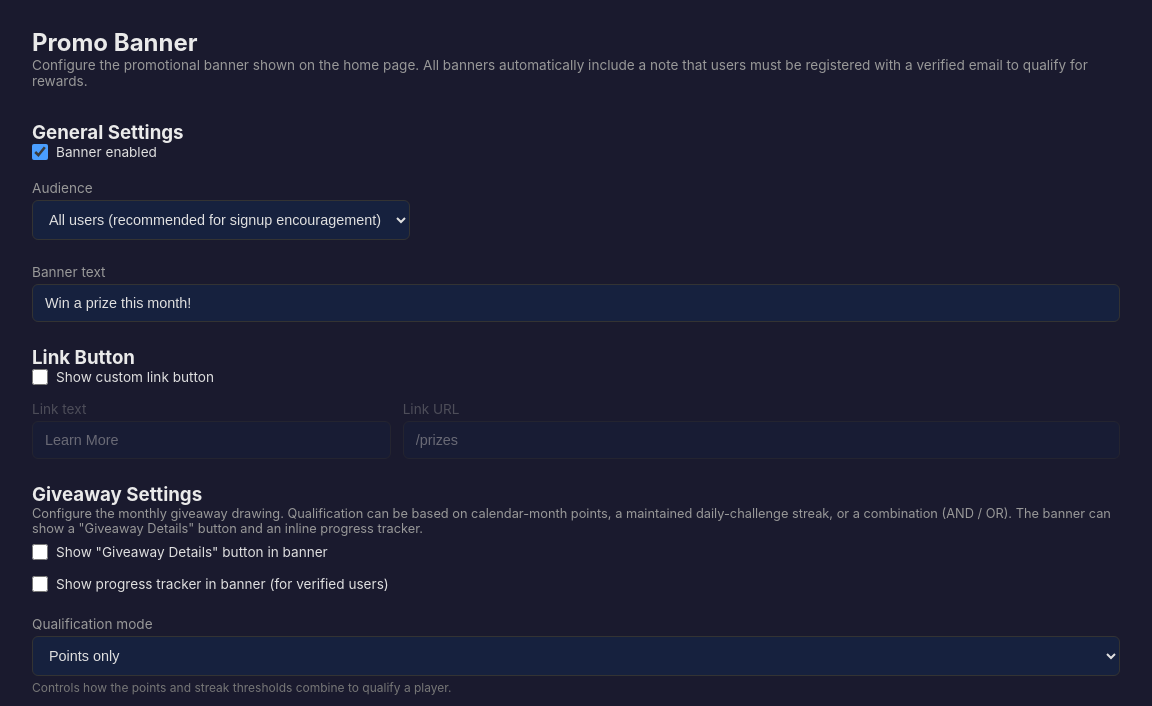
Test case: AdminBannerPage › points_or_streak mode shows both inputs
Select "Points OR streak" in the dropdown with test id "banner-giveaway-mode" at (576, 656), box [32,636,1120,676]
(page scrolled)
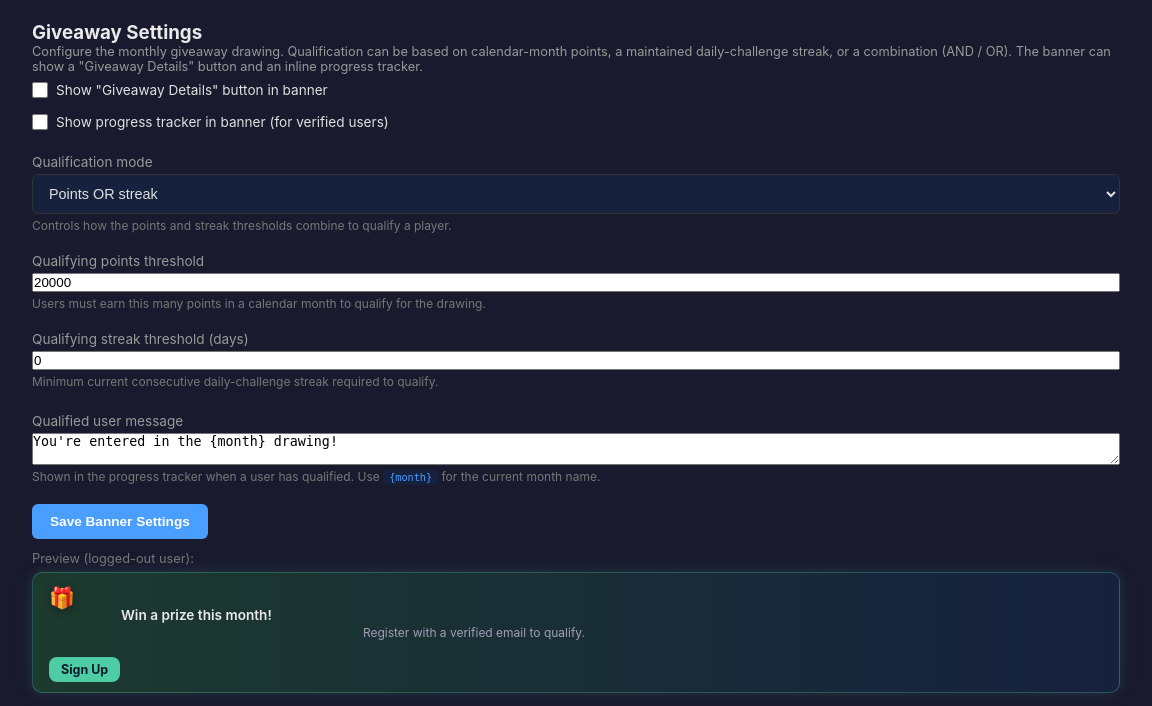
Expected: the number field with test id "banner-giveaway-min-points" is shown, [32,273,1120,292]
Now the number field with test id "banner-giveaway-min-streak" is shown, box [32,351,1120,370]
